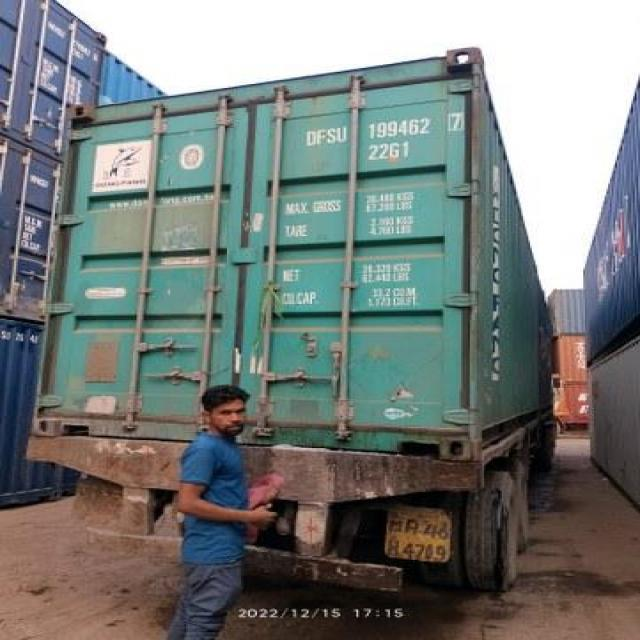container_number_h: (270, 101, 496, 180)
